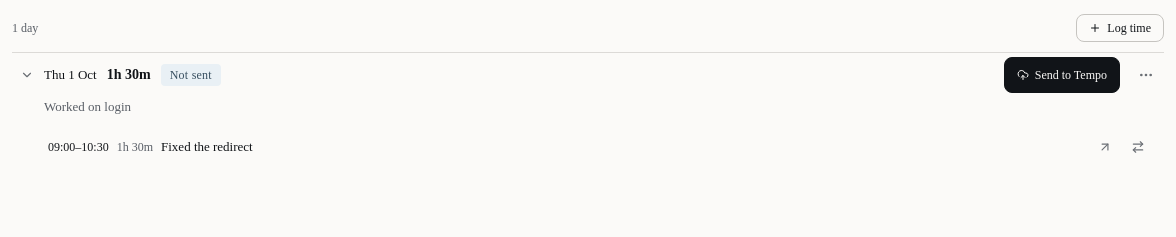
preview › confirmation strip persists after refetch and is announced
The width and height of the screenshot is (1176, 237).
Click the button "Send to Tempo": (1062, 75) [1004,57,1120,93]
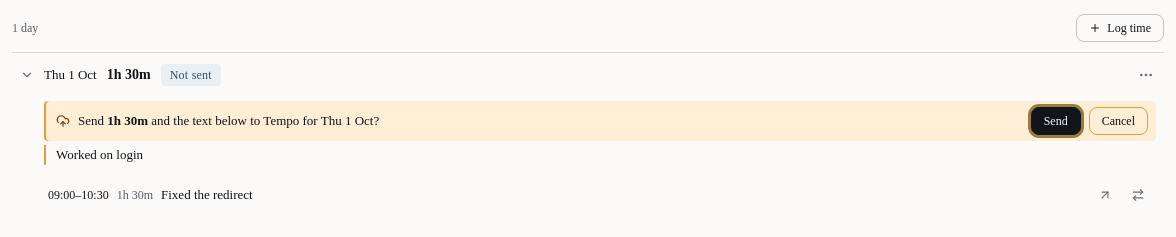
Check: the element named "Confirm sending Thu 1 Oct to Tempo" is shown, box [44,101,1156,141]
Click the button "Send": (1056, 121) [1031,107,1081,135]
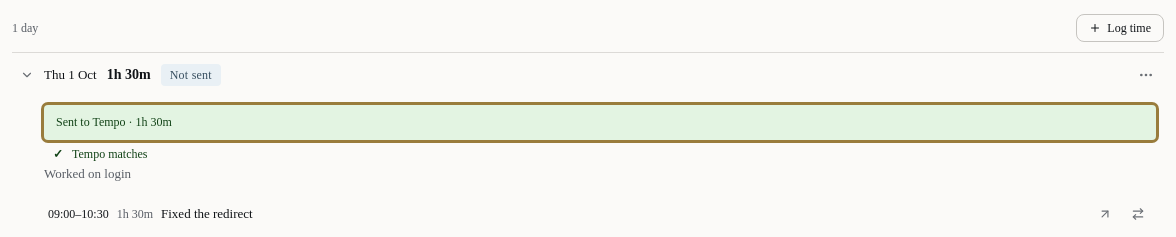
Check: the text "Sent to Tempo · 1h 30m" is shown, box [44,105,1156,140]
